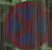No Stopping: (3, 3, 51, 48)
